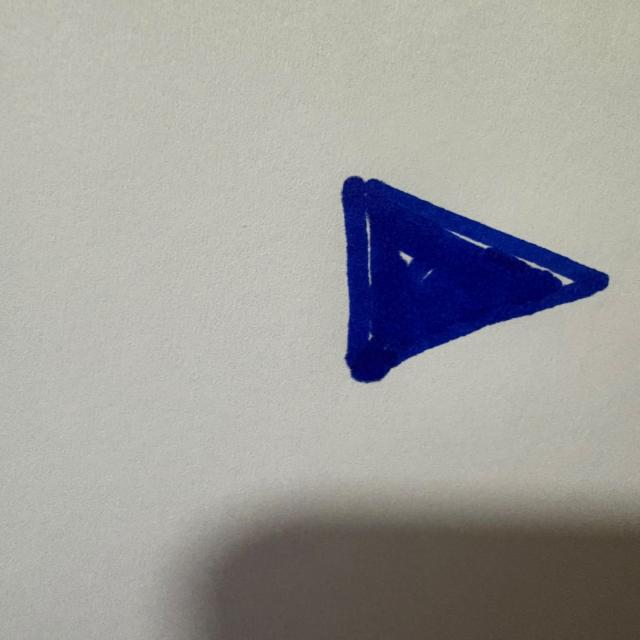Triangle: (321, 160, 629, 408)
